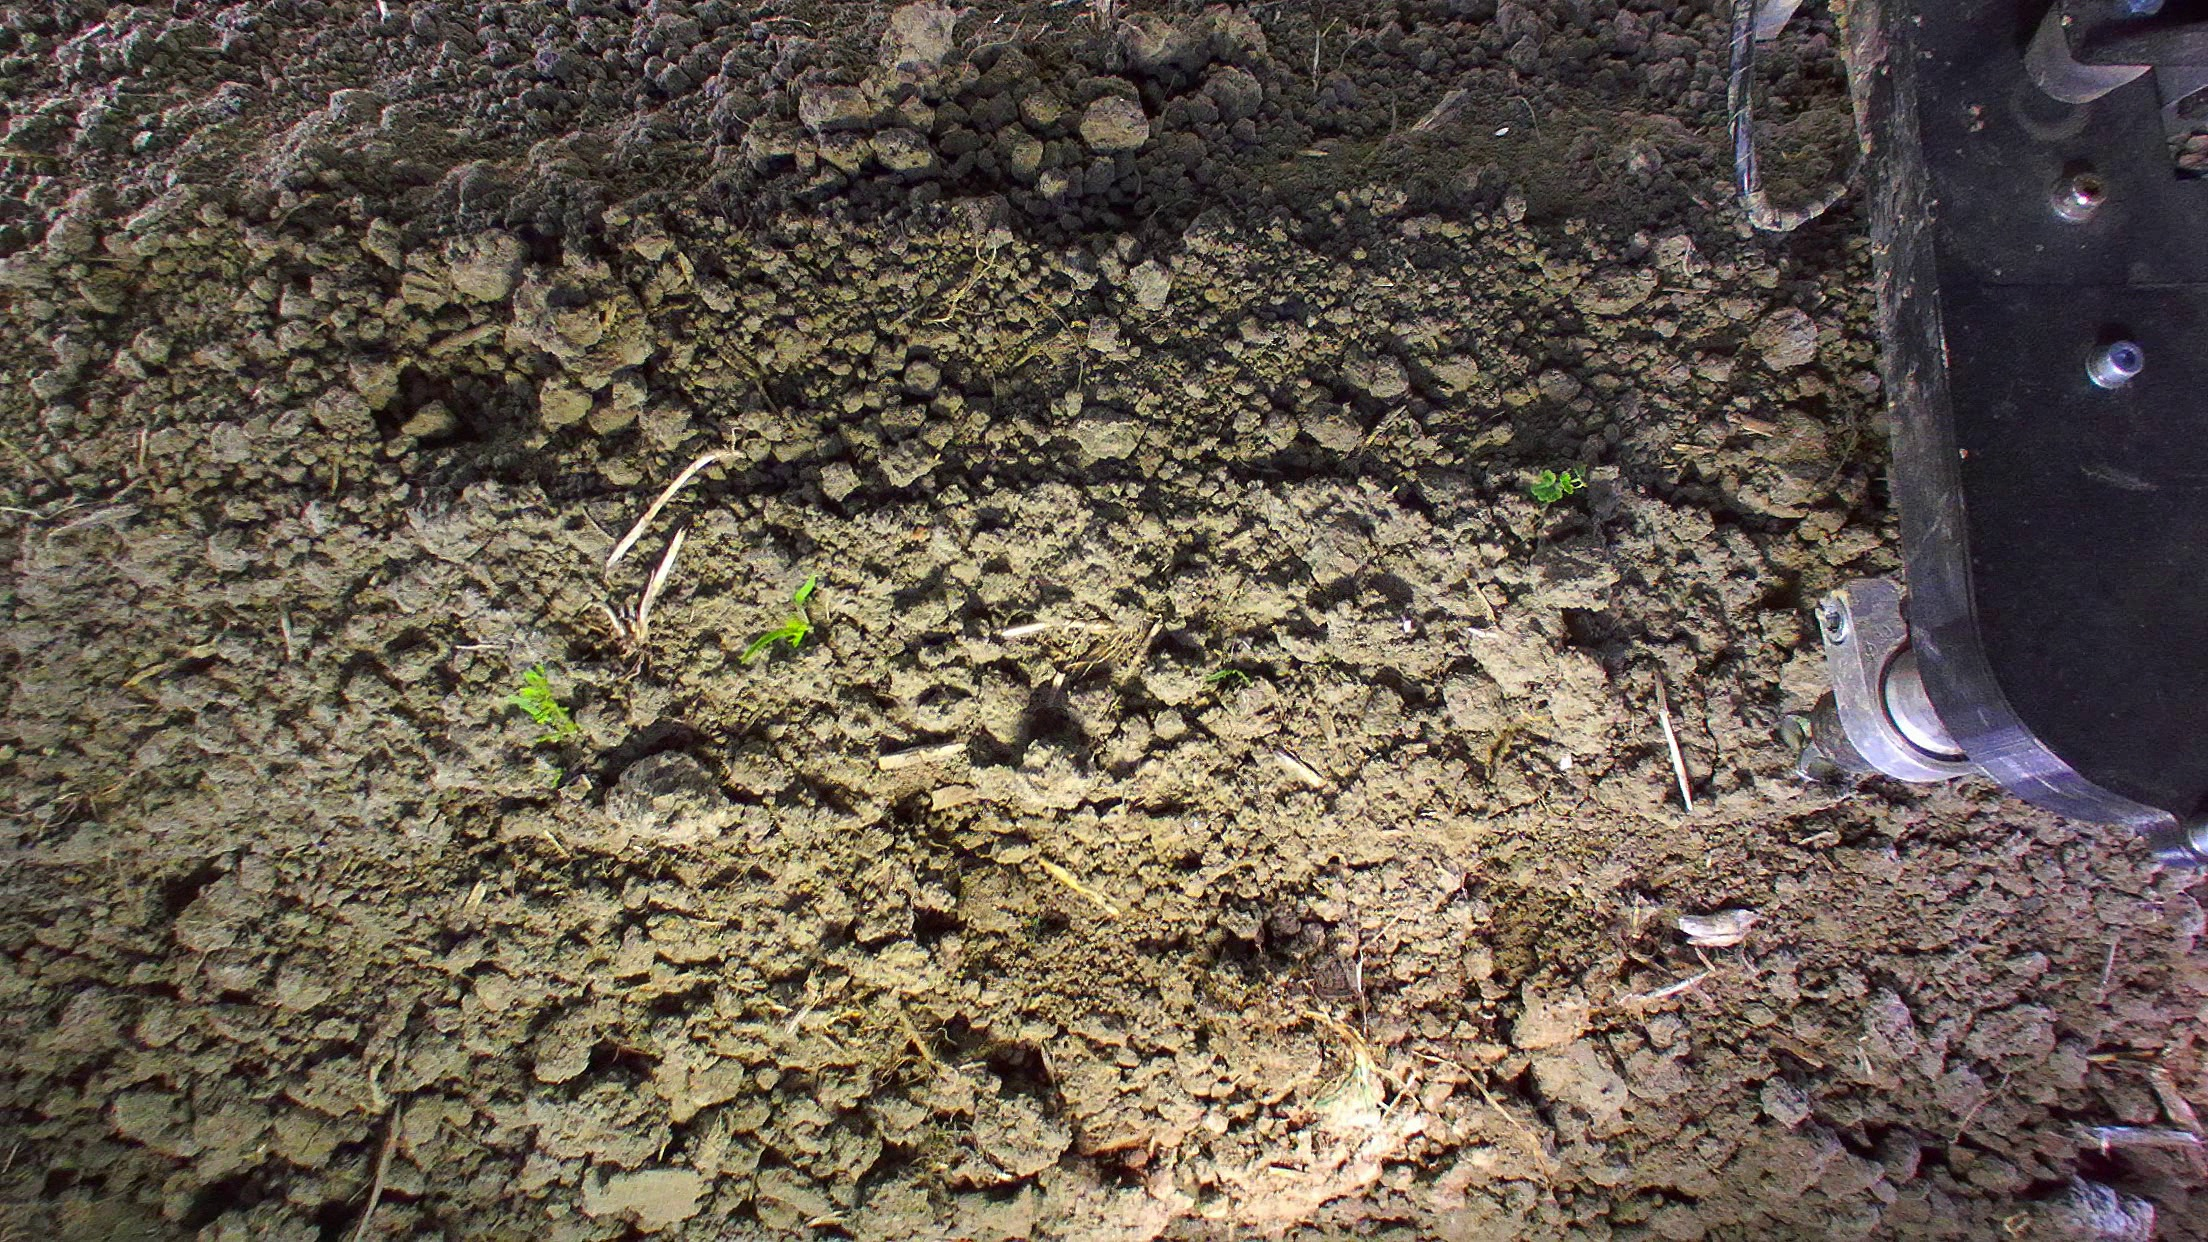Crop: (507, 660, 579, 745), (739, 610, 816, 666)
Weed: (1526, 464, 1586, 507)
